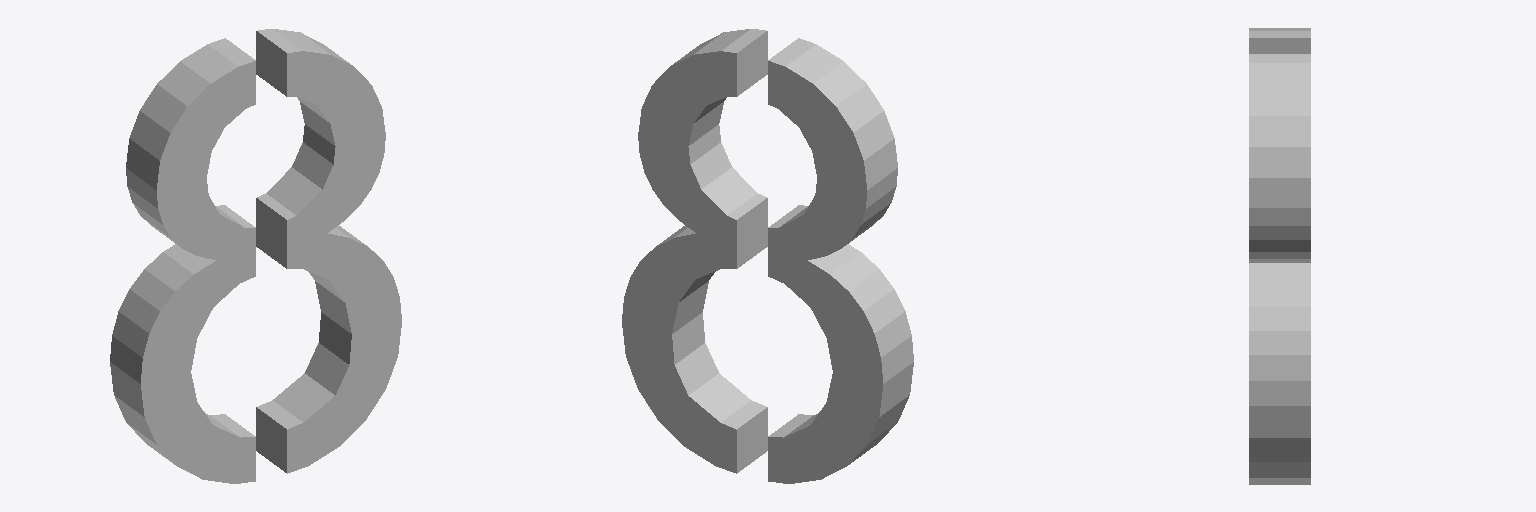
File: eight_3006_01.obj
3 renders of one model, left to right at view 1: azimuth 30°, elevation 25°; view 2: azimuth 150°, elevation 25°; view 3: azimuth 270°, elevation 25°, orthographic.
Parts seen in each view (by area): view 1: polySurface642; view 2: polySurface642; view 3: polySurface642.
Part boxes in pixels (x1,y1,x2,y2): polySurface642: (110, 29, 401, 483); polySurface642: (622, 29, 913, 483); polySurface642: (1249, 28, 1310, 484).
Size of the model in its own units: 0.8423 by 1.3 by 0.1719.